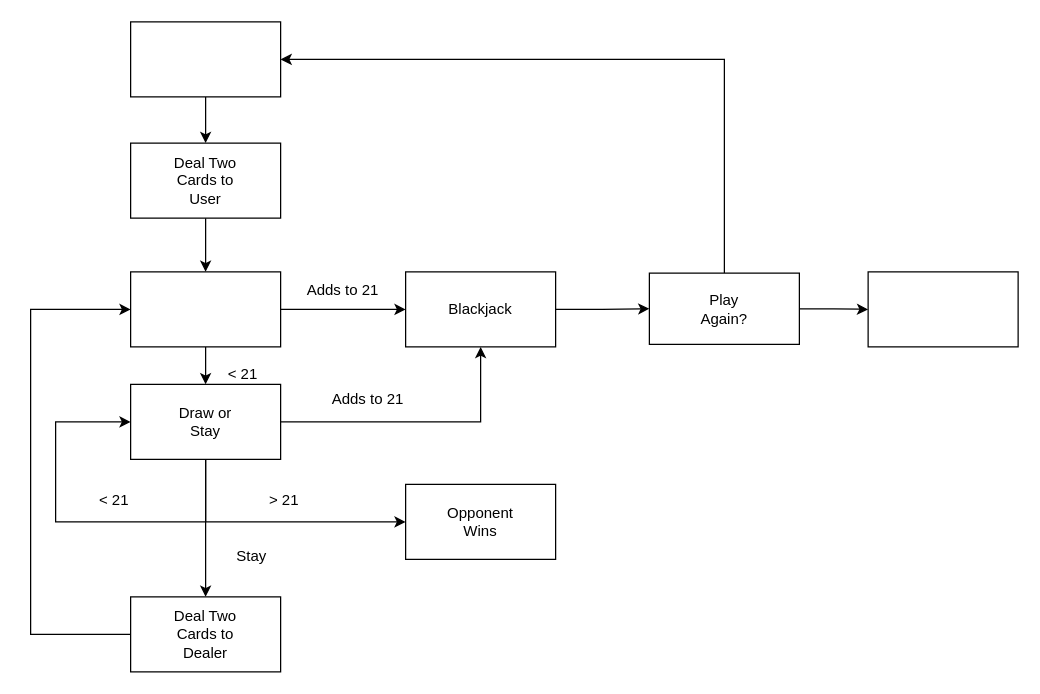
Image size: 1040x694. Some labels were removed from this diagram. The centre of each missing label's shape, as x and y in pixels:
End: point 942,309
Score Cards: point 205,309
Start Playing: point 205,59
